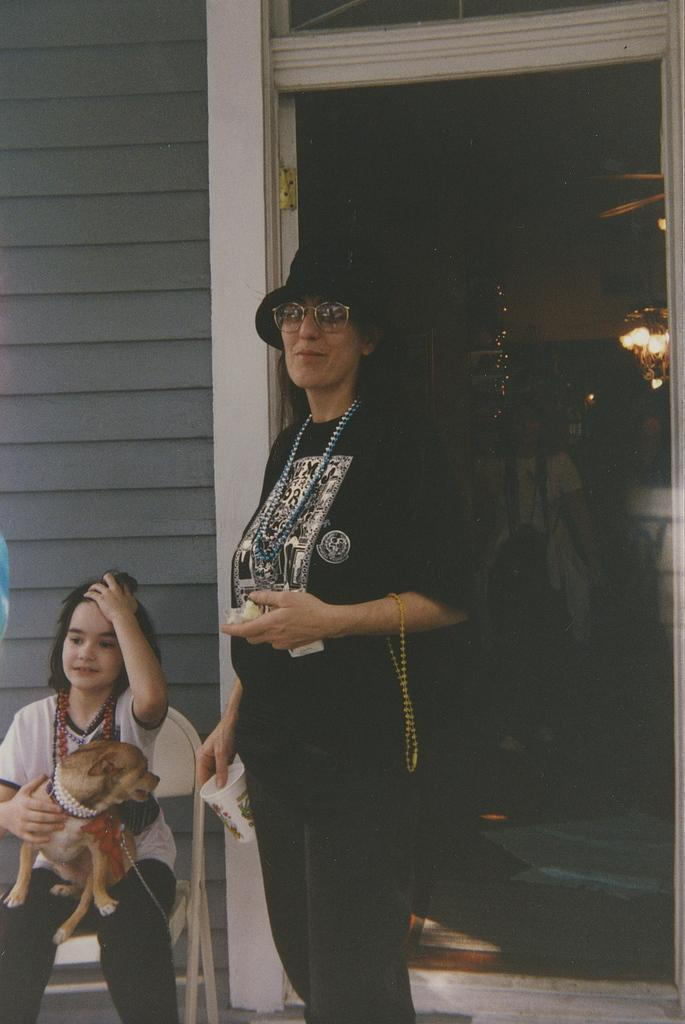Hat: (250, 243, 380, 355)
